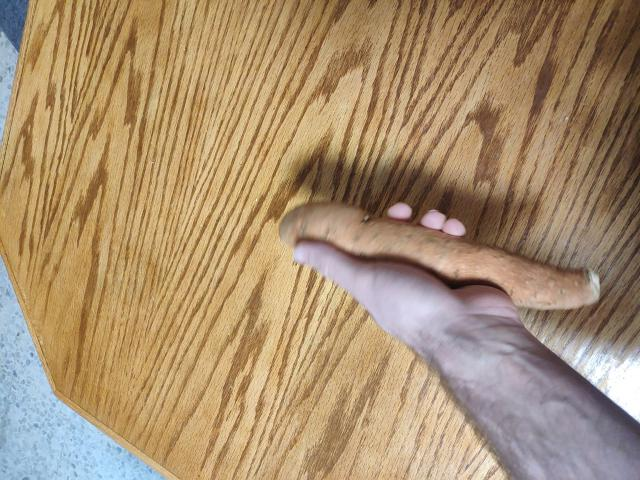sweet_potato: (281, 199, 602, 314)
